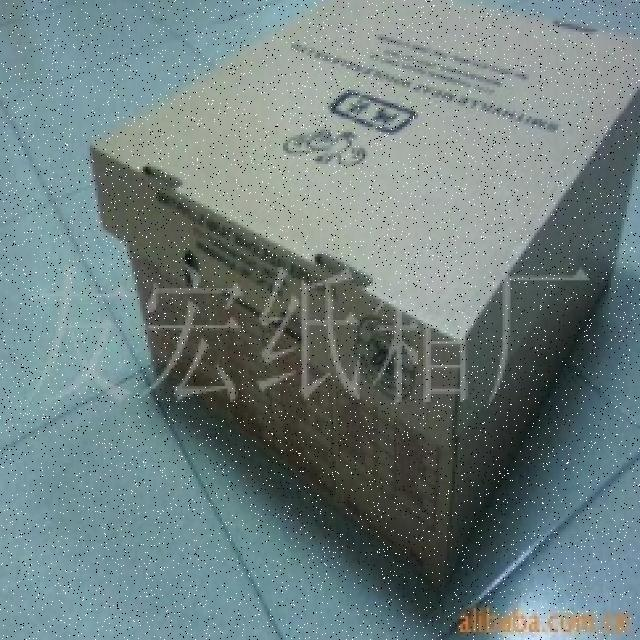box: (92, 0, 640, 613)
